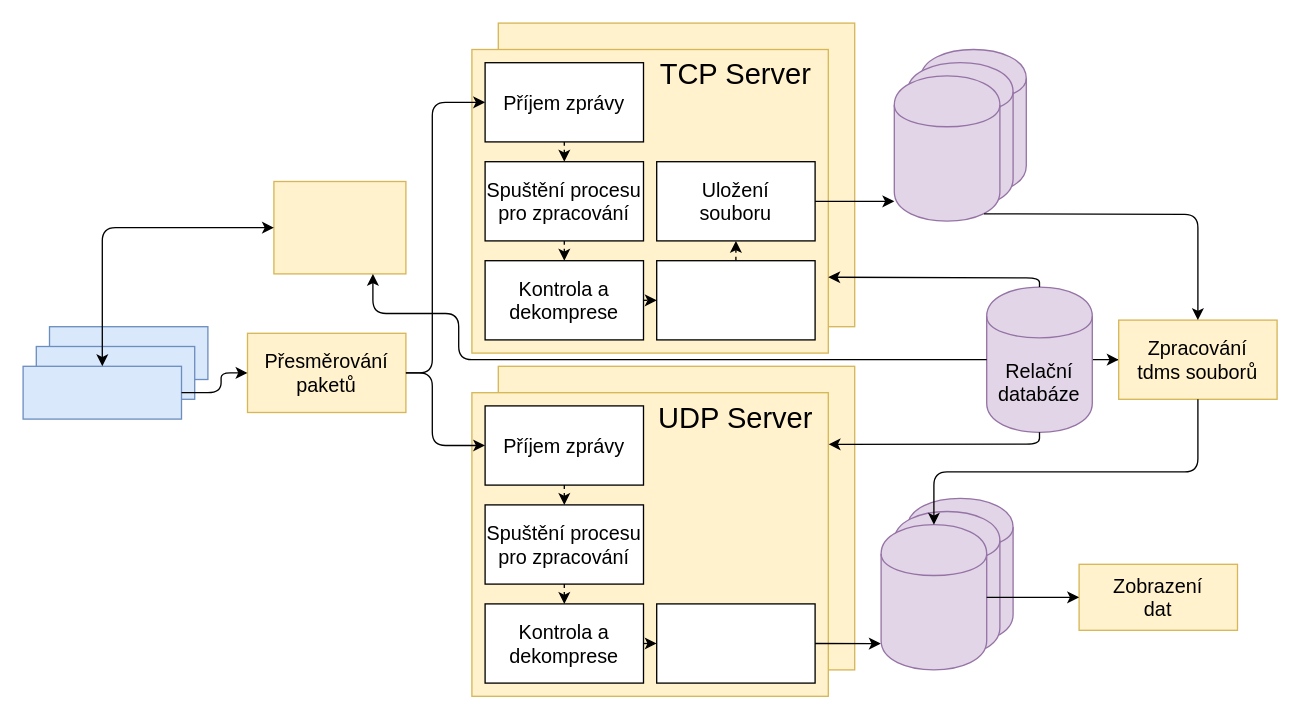
The diagram is 1300 pixels wide and 719 high, and some of its shapes have lost their labels. Each missing label, with the centre of its shape:
"Generování kofiguračního souboru" goes at point 339,227.
"Měřící jednotka" goes at point 102,392.
"Složení .tdms souboru" goes at point 735,299.
"Uzel datového úložiště" goes at point 946,148.
"Uzel časové databáze" goes at point 933,596.
"Zápis do časové databáze" goes at point 735,643.
